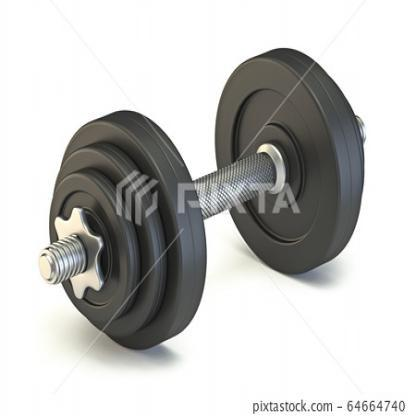Barbell: (30, 103, 214, 360)
